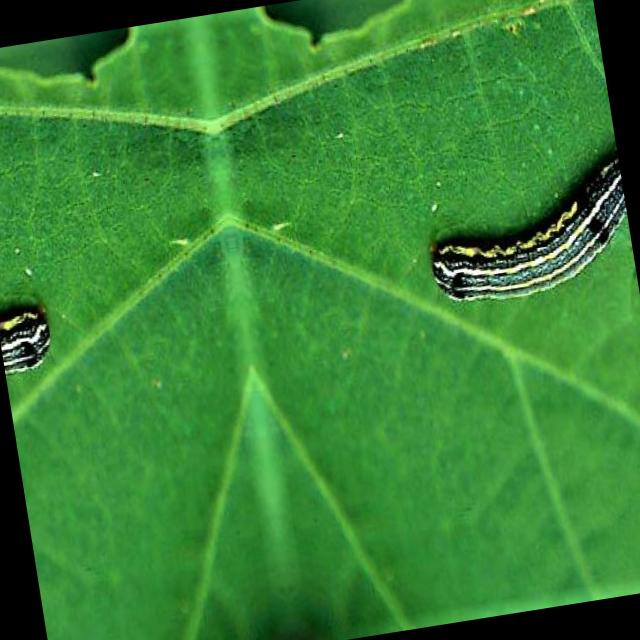Armyworm: (397, 94, 640, 372), (1, 255, 109, 427)
